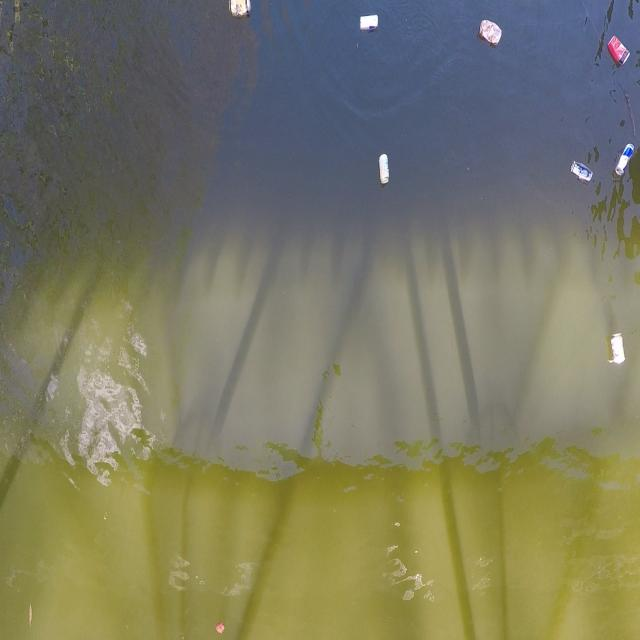Non plastique: (606, 32, 634, 76), (613, 138, 638, 183), (476, 17, 507, 52), (376, 150, 398, 197), (568, 156, 595, 193), (607, 331, 630, 371), (358, 10, 383, 38), (227, 0, 254, 21)
